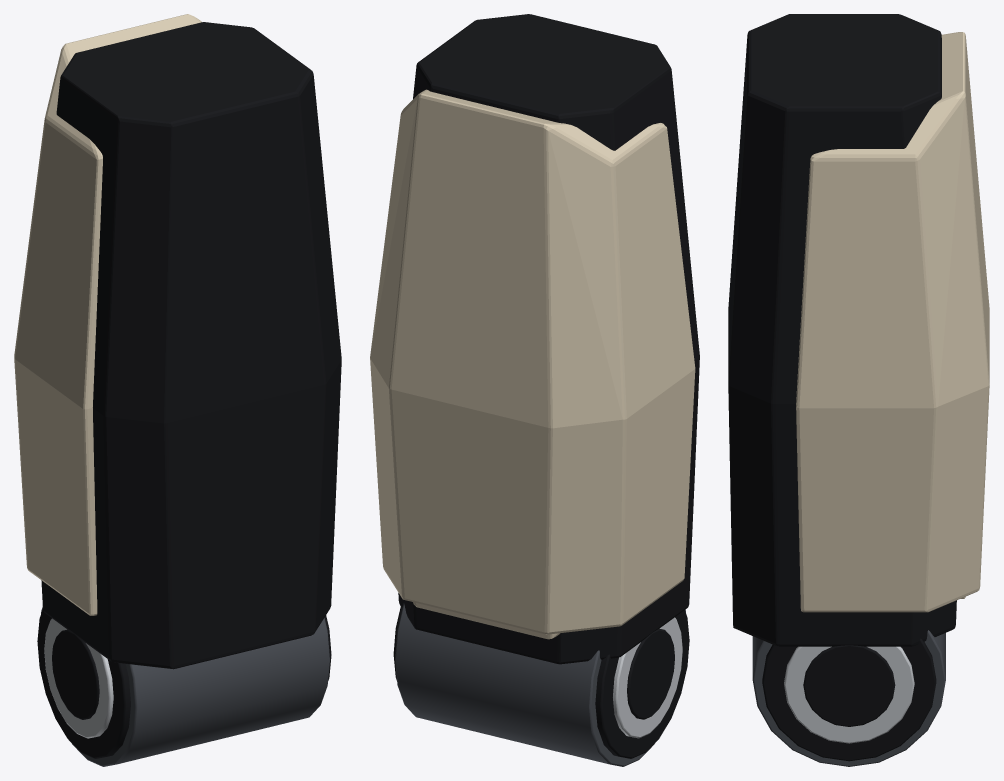
Rendered from arms.fbx.
3 views of the same model, side by side, from view 1: azimuth 30°, elevation 25°; view 2: azimuth 150°, elevation 25°; view 3: azimuth 270°, elevation 25° (orthographic).
Visible parts, largest first — view 1: L_upper_body, L_upper_shell, L_elbow, L_elbow_disc, L_elbow_hub, L_elbow_ring; view 2: L_upper_shell, L_upper_body, L_elbow, L_elbow_disc, L_elbow_hub, L_elbow_ring, L_fore_shell; view 3: L_upper_shell, L_upper_body, L_elbow_disc, L_elbow_hub, L_elbow_ring, L_elbow.
Boxes of the visible parts, left/top/right/bottom form: L_upper_body: left=41, top=22, right=341, bottom=669; L_upper_shell: left=14, top=14, right=201, bottom=615; L_elbow: left=41, top=606, right=329, bottom=766; L_elbow_disc: left=37, top=609, right=331, bottom=758; L_elbow_hub: left=52, top=629, right=99, bottom=719; L_elbow_ring: left=44, top=618, right=113, bottom=738; L_upper_shell: left=370, top=89, right=695, bottom=634; L_upper_body: left=398, top=14, right=699, bottom=664; L_elbow: left=395, top=603, right=685, bottom=766; L_elbow_disc: left=393, top=604, right=689, bottom=758; L_elbow_hub: left=627, top=628, right=674, bottom=719; L_elbow_ring: left=613, top=617, right=682, bottom=738; L_fore_shell: left=413, top=602, right=559, bottom=639; L_upper_shell: left=796, top=32, right=989, bottom=612; L_upper_body: left=728, top=14, right=956, bottom=646; L_elbow_disc: left=762, top=638, right=936, bottom=761; L_elbow_hub: left=803, top=645, right=895, bottom=726; L_elbow_ring: left=784, top=646, right=914, bottom=743; L_elbow: left=752, top=630, right=945, bottom=766.
Size of the model in its own units: 0.138 by 0.346 by 0.1242.
